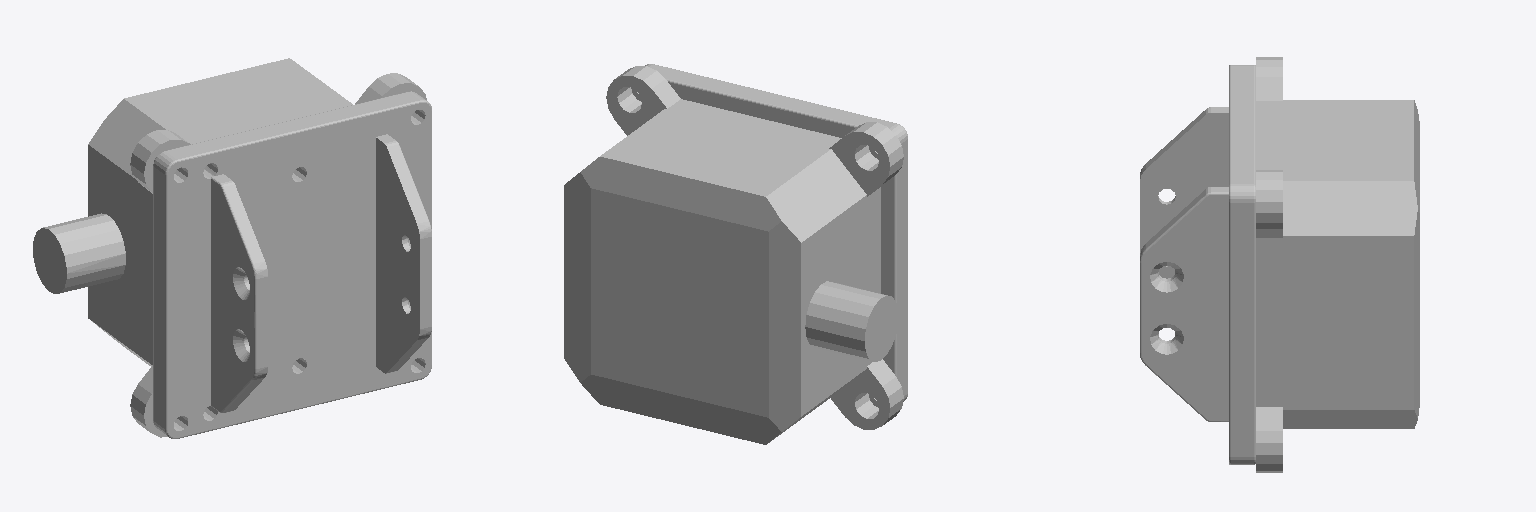
Rendered from IMU_link.obj.
3 renders of one model, left to right at view 1: azimuth 30°, elevation 25°; view 2: azimuth 150°, elevation 25°; view 3: azimuth 270°, elevation 25°, orthographic.
Visible parts, largest first — view 1: IMU_link; view 2: IMU_link; view 3: IMU_link.
Boxes of the visible parts, x1=… form: IMU_link: x1=33, y1=58, x2=431, y2=438; IMU_link: x1=564, y1=64, x2=907, y2=444; IMU_link: x1=1140, y1=57, x2=1419, y2=472.
Bounding box in the file's own units: 0.0539 × 0.0479 × 0.041.